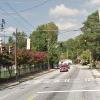Crosswalk: (30, 70, 100, 93)
